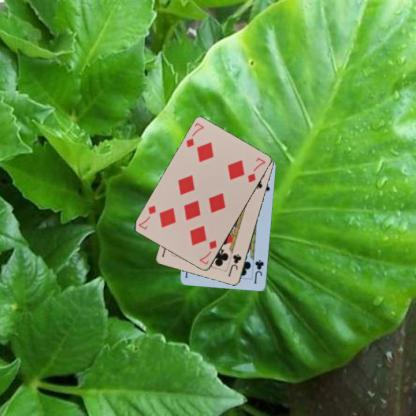7d: (196, 238, 218, 266), (184, 120, 205, 149)
Jc: (225, 251, 243, 278), (252, 258, 265, 285)
